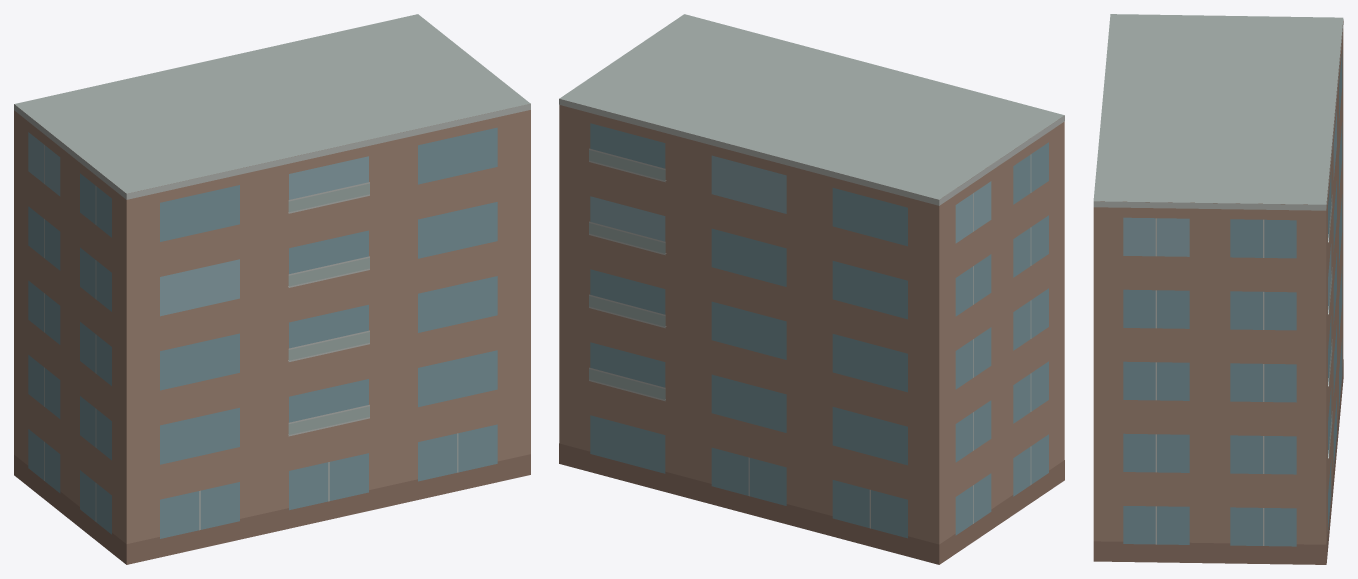
File: survey-upis-32926709.glb
3 views of the same model, side by side, from view 1: azimuth 30°, elevation 25°; view 2: azimuth 150°, elevation 25°; view 3: azimuth 270°, elevation 25° (orthographic). The views are drawn at different scales.
Parts seen in each view (by area): view 1: survey-upis-32926709.tmp; view 2: survey-upis-32926709.tmp; view 3: survey-upis-32926709.tmp.
Part boxes in pixels (bbox=[...]): survey-upis-32926709.tmp: bbox=[14, 14, 530, 564]; survey-upis-32926709.tmp: bbox=[559, 14, 1064, 564]; survey-upis-32926709.tmp: bbox=[1093, 14, 1343, 564].
Bounding box in the file's own units: 16.7 × 14.7 × 9.26.
